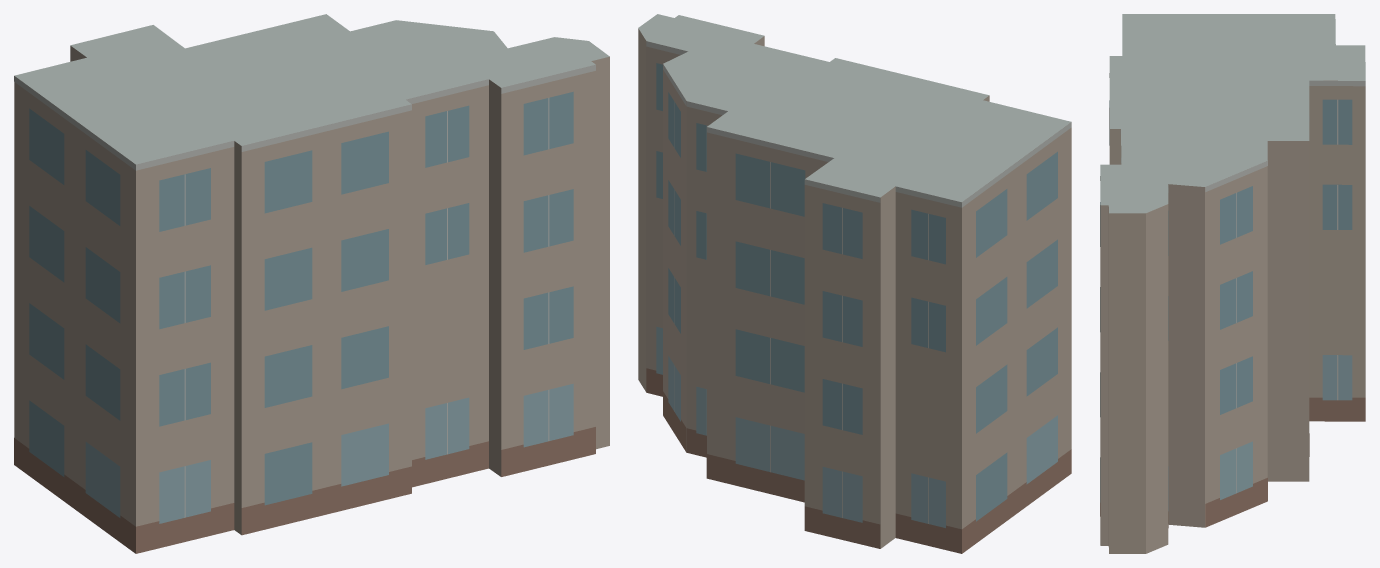
File: survey-upis-32820394.glb
The picture shows the model from 3 angles, left to right: view 1: azimuth 30°, elevation 25°; view 2: azimuth 150°, elevation 25°; view 3: azimuth 270°, elevation 25°; orthographic projection. The views are drawn at different scales.
Parts seen in each view (by area): view 1: survey-upis-32820394.tmp; view 2: survey-upis-32820394.tmp; view 3: survey-upis-32820394.tmp.
Part boxes in pixels (x1=…): survey-upis-32820394.tmp: x1=14, y1=14, x2=609, y2=553; survey-upis-32820394.tmp: x1=638, y1=14, x2=1071, y2=553; survey-upis-32820394.tmp: x1=1100, y1=14, x2=1365, y2=553.
Size of the model in its own units: 19.7 by 15.7 by 11.1.
